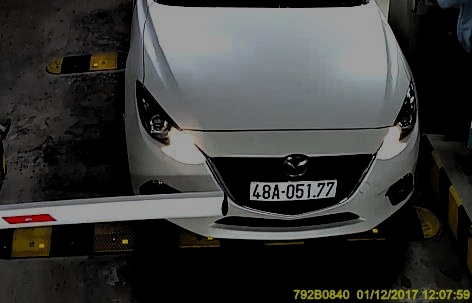plate: (247, 168, 336, 201)
